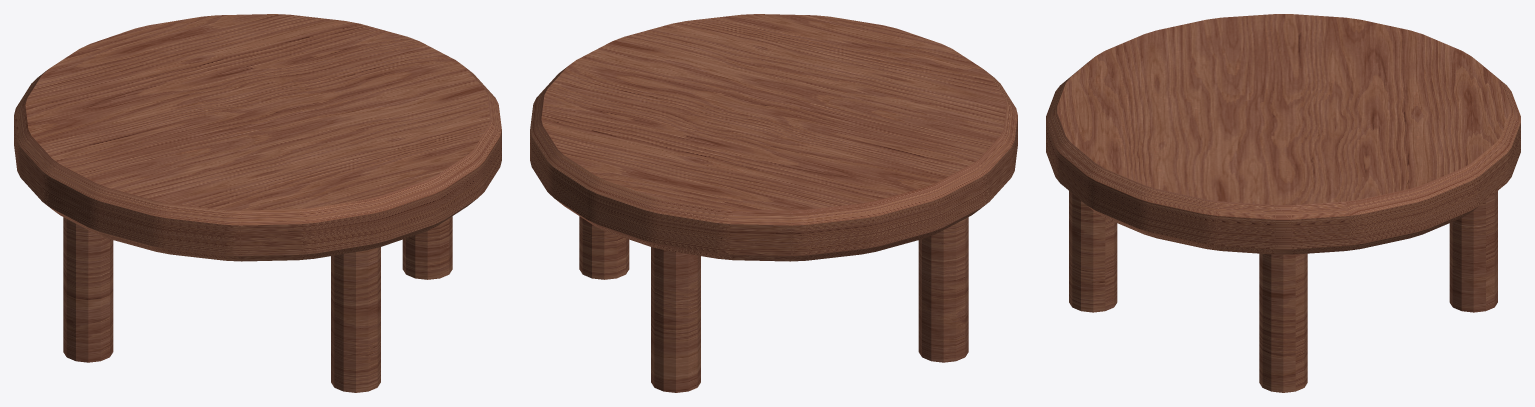
Rendered from low_poly_wooden_table.glb.
The picture shows the model from 3 angles, left to right: view 1: azimuth 30°, elevation 25°; view 2: azimuth 150°, elevation 25°; view 3: azimuth 270°, elevation 25°; orthographic projection. The views are drawn at different scales.
Visible parts, largest first — view 1: pCylinder1, pCylinder4, pCylinder3, pCylinder2; view 2: pCylinder1, pCylinder5, pCylinder3, pCylinder2; view 3: pCylinder1, pCylinder2, pCylinder4, pCylinder5.
Boxes of the visible parts, x1,y1,x2,y2 form: pCylinder1: [14, 14, 501, 261]; pCylinder4: [331, 247, 380, 392]; pCylinder3: [63, 217, 113, 362]; pCylinder2: [402, 216, 452, 279]; pCylinder1: [530, 14, 1017, 261]; pCylinder5: [651, 247, 700, 392]; pCylinder3: [918, 217, 968, 362]; pCylinder2: [579, 216, 629, 279]; pCylinder1: [1046, 14, 1520, 254]; pCylinder2: [1259, 253, 1307, 392]; pCylinder4: [1069, 191, 1117, 312]; pCylinder5: [1449, 191, 1497, 312].
Size of the model in its own units: 0.0858 by 0.0384 by 0.0858.
Materials: 1 (1 with a texture image).
